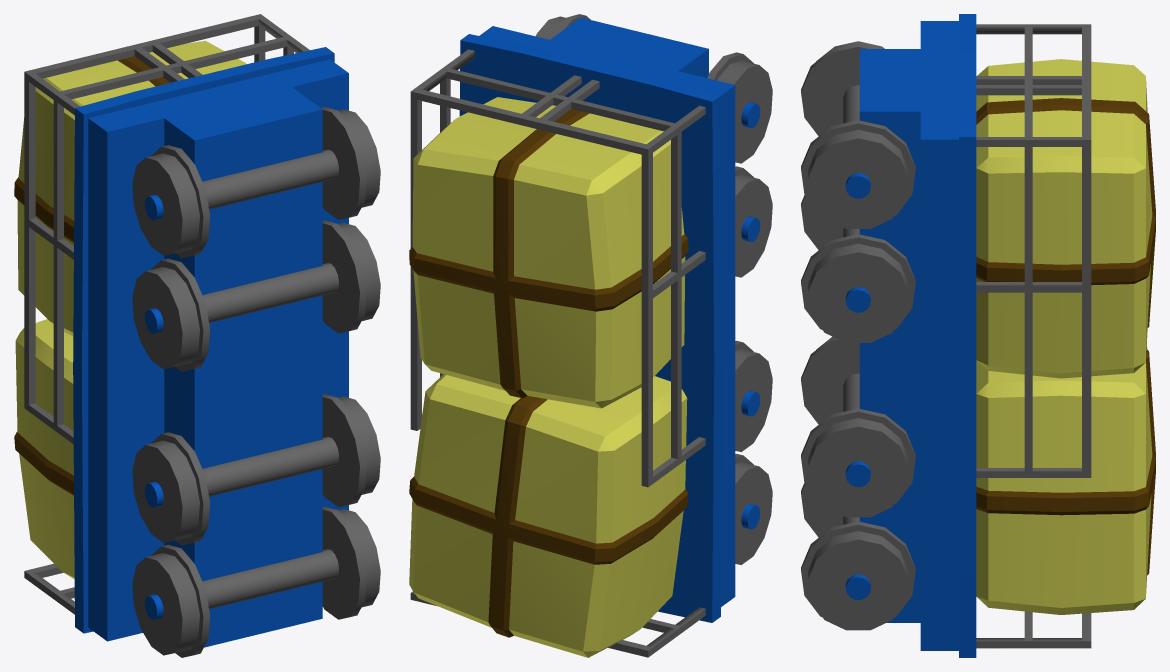
Rendered from train3.fbx.
3 renders of one model, left to right at view 1: azimuth 30°, elevation 25°; view 2: azimuth 150°, elevation 25°; view 3: azimuth 270°, elevation 25°, orthographic.
Parts seen in each view (by area): view 1: Object002; view 2: Object002; view 3: Object002.
Part boxes in pixels (x1,y1,x2,y2): Object002: (14, 14, 380, 657); Object002: (409, 14, 772, 657); Object002: (801, 14, 1155, 657).
Size of the model in its own units: 3302 by 6479 by 3969.
